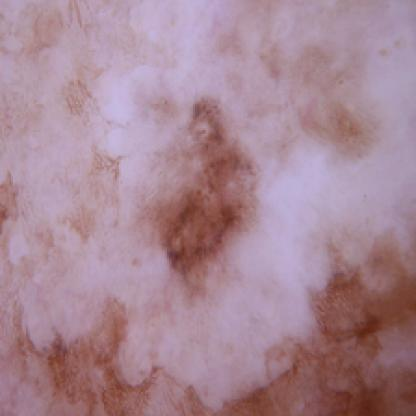Skin_Cancer-Malignant: (156, 96, 259, 305)
